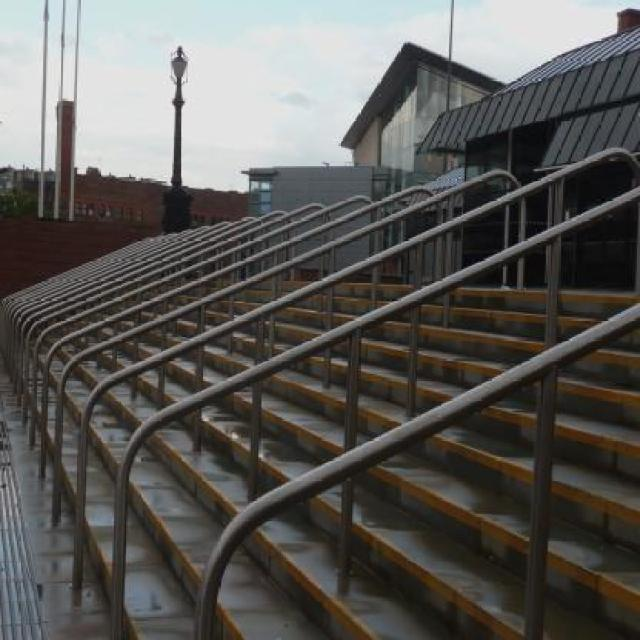stair: (4, 272, 640, 639)
